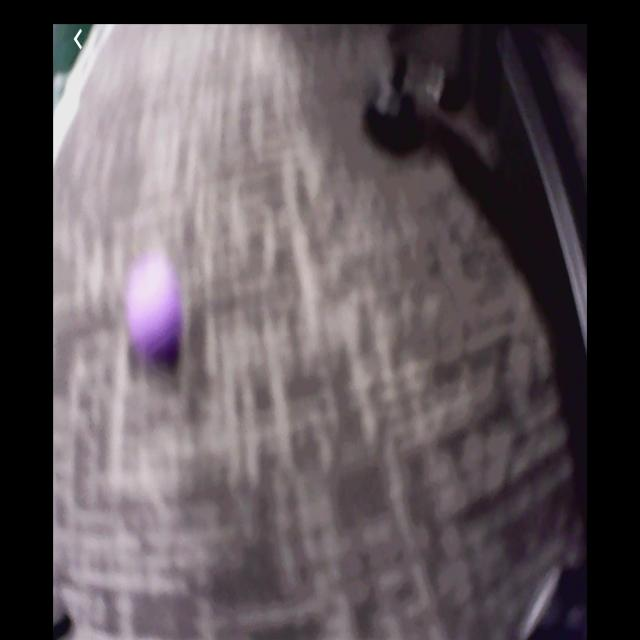ball: (127, 258, 185, 364)
